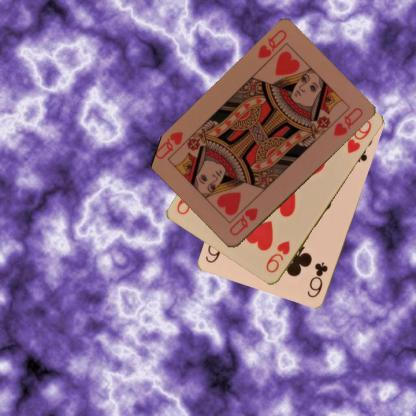6c: (304, 260, 329, 300)
9h: (263, 238, 292, 274)
Qh: (255, 27, 288, 60), (226, 206, 260, 238)
